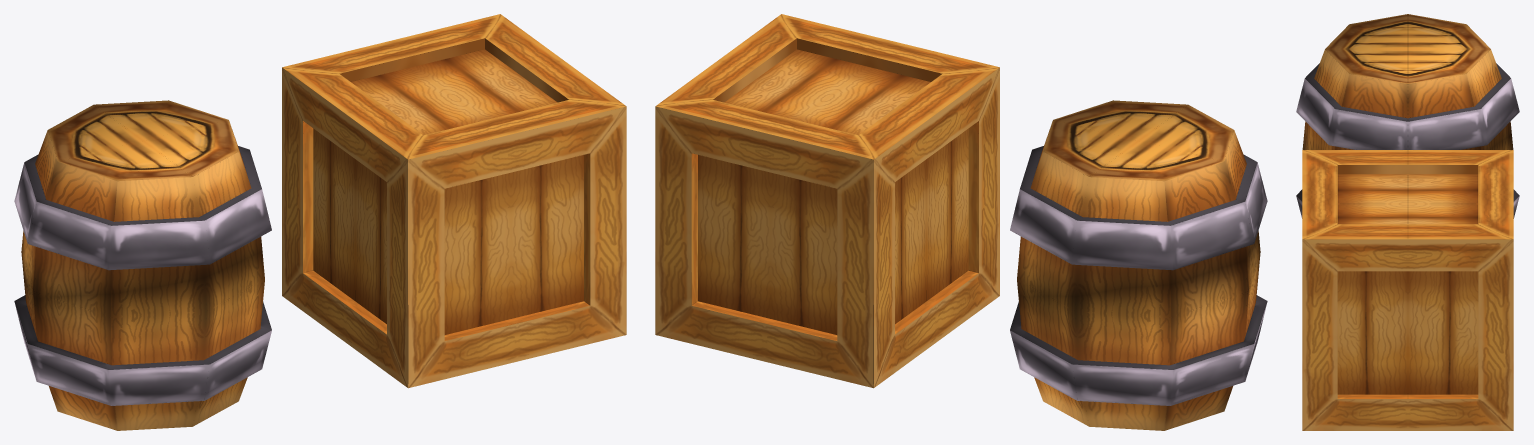
Rendered from Barrel and Box.fbx.
The picture shows the model from 3 angles, left to right: view 1: azimuth 30°, elevation 25°; view 2: azimuth 150°, elevation 25°; view 3: azimuth 270°, elevation 25°; orthographic projection. The views are drawn at different scales.
Visible parts, largest first — view 1: Cube, Cylinder; view 2: Cube, Cylinder; view 3: Cube, Cylinder.
Part boxes in pixels (bbox=[...]): Cube: bbox=[282, 14, 626, 388]; Cylinder: bbox=[14, 100, 271, 430]; Cube: bbox=[655, 14, 999, 388]; Cylinder: bbox=[1010, 100, 1267, 430]; Cube: bbox=[1302, 150, 1513, 430]; Cylinder: bbox=[1296, 14, 1519, 218].
Bounding box in the file's own units: 491 × 219 × 212.
